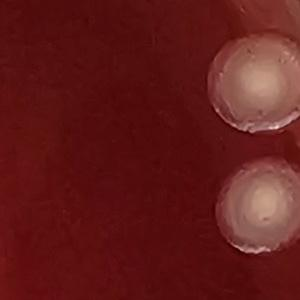colony: (201, 30, 300, 136), (207, 156, 300, 262)
